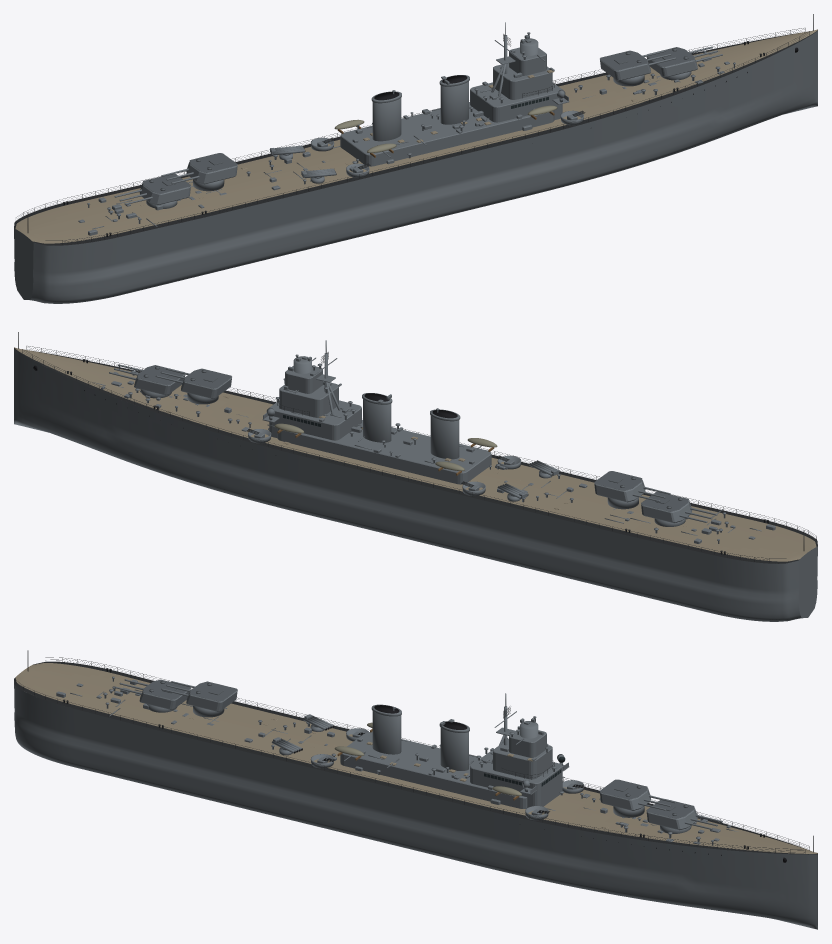
The model's file is town.glb.
The picture shows the model from 3 angles, top to bottom: view 1: azimuth 30°, elevation 25°; view 2: azimuth 150°, elevation 25°; view 3: azimuth 330°, elevation 25°; orthographic projection.
Visible parts, largest first — view 1: town, T_2_malla, T_3_malla, T_1_malla, T_0_malla; view 2: town, T_2_malla, T_3_malla, T_1_malla, T_0_malla; view 3: town, T_1_malla, T_0_malla, T_2_malla, T_3_malla.
Part boxes in pixels (x1,y1,x2,y2): town: [14, 14, 817, 303]; T_2_malla: [186, 153, 237, 184]; T_3_malla: [139, 174, 190, 204]; T_1_malla: [600, 50, 650, 80]; T_0_malla: [646, 47, 697, 77]; town: [14, 332, 817, 621]; T_2_malla: [594, 471, 645, 502]; T_3_malla: [641, 492, 692, 522]; T_1_malla: [181, 368, 231, 398]; T_0_malla: [134, 365, 185, 395]; town: [14, 650, 817, 929]; T_1_malla: [600, 779, 650, 810]; T_0_malla: [646, 799, 697, 830]; T_2_malla: [186, 681, 237, 711]; T_3_malla: [139, 679, 190, 709].
Size of the model in its own units: 187 by 36 by 20.
